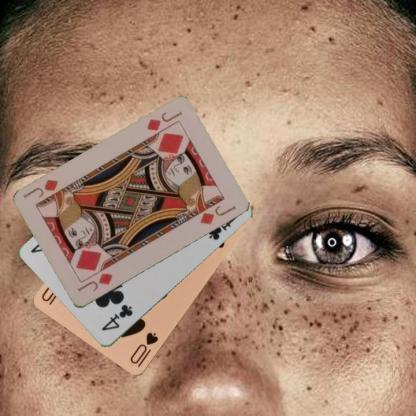10s: (127, 329, 160, 370)
4c: (98, 301, 134, 332)
Jd: (74, 270, 114, 294), (144, 110, 184, 132)
